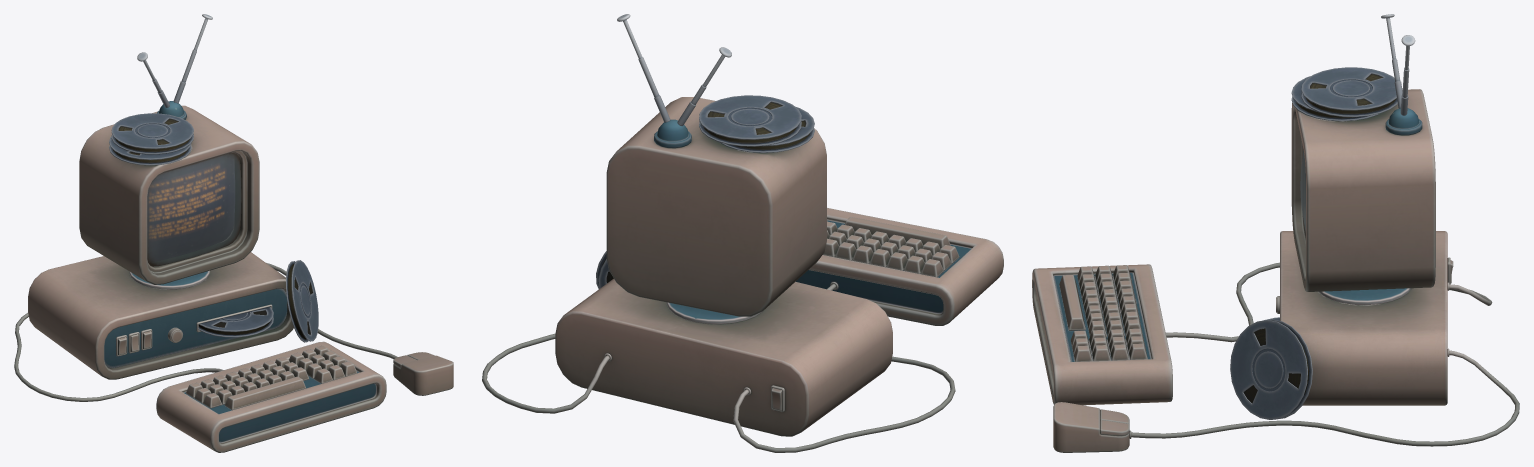
Rendered from computer.gltf.
3 views of the same model, side by side, from view 1: azimuth 30°, elevation 25°; view 2: azimuth 150°, elevation 25°; view 3: azimuth 270°, elevation 25° (orthographic). The views are drawn at different scales.
Parts seen in each view (by area): view 1: base_keyboard_geo, screen_props_geo, disck_geo; view 2: base_keyboard_geo, screen_props_geo, disck_geo; view 3: base_keyboard_geo, screen_props_geo, disck_geo.
Part boxes in pixels (x1,y1,x2,y2): base_keyboard_geo: [28, 252, 386, 452]; screen_props_geo: [14, 14, 453, 401]; disck_geo: [109, 113, 318, 342]; base_keyboard_geo: [555, 208, 1003, 436]; screen_props_geo: [482, 14, 955, 452]; disck_geo: [596, 95, 814, 289]; base_keyboard_geo: [1032, 231, 1447, 405]; screen_props_geo: [1053, 14, 1519, 452]; disck_geo: [1230, 67, 1397, 419].
Bounding box in the file's own units: 1.81 × 1.57 × 1.95.
3 materials, 3 textured.
